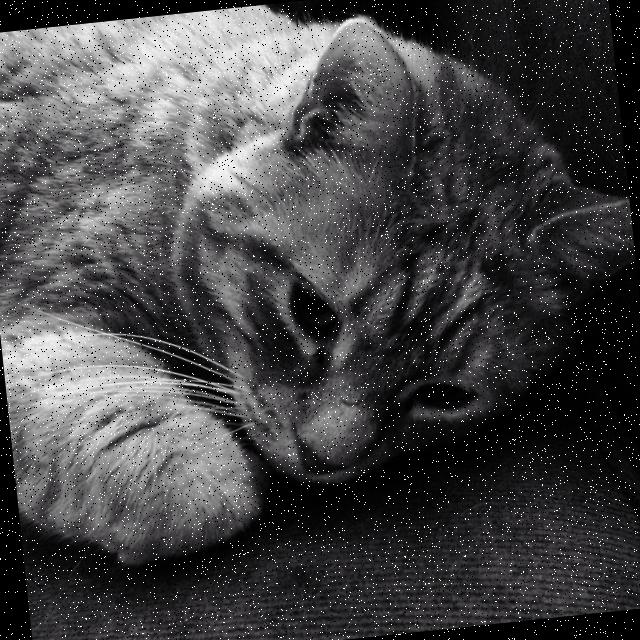Sad: (188, 188, 506, 511)
